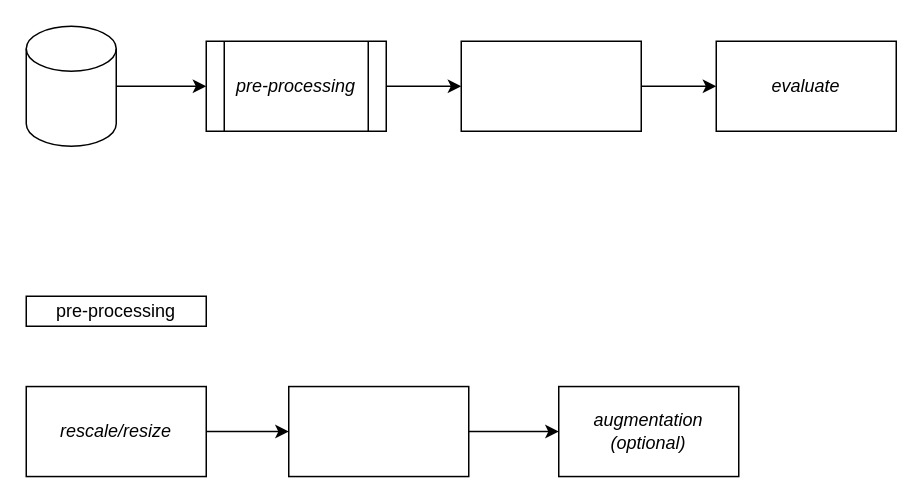
Image size: 923x504. Some labels were removed from this diagram. Each missing label, with the centre of its shape:
"data" belongs at point (70, 85).
"normalization" belongs at point (378, 431).
"transfer learning" belongs at point (550, 85).
